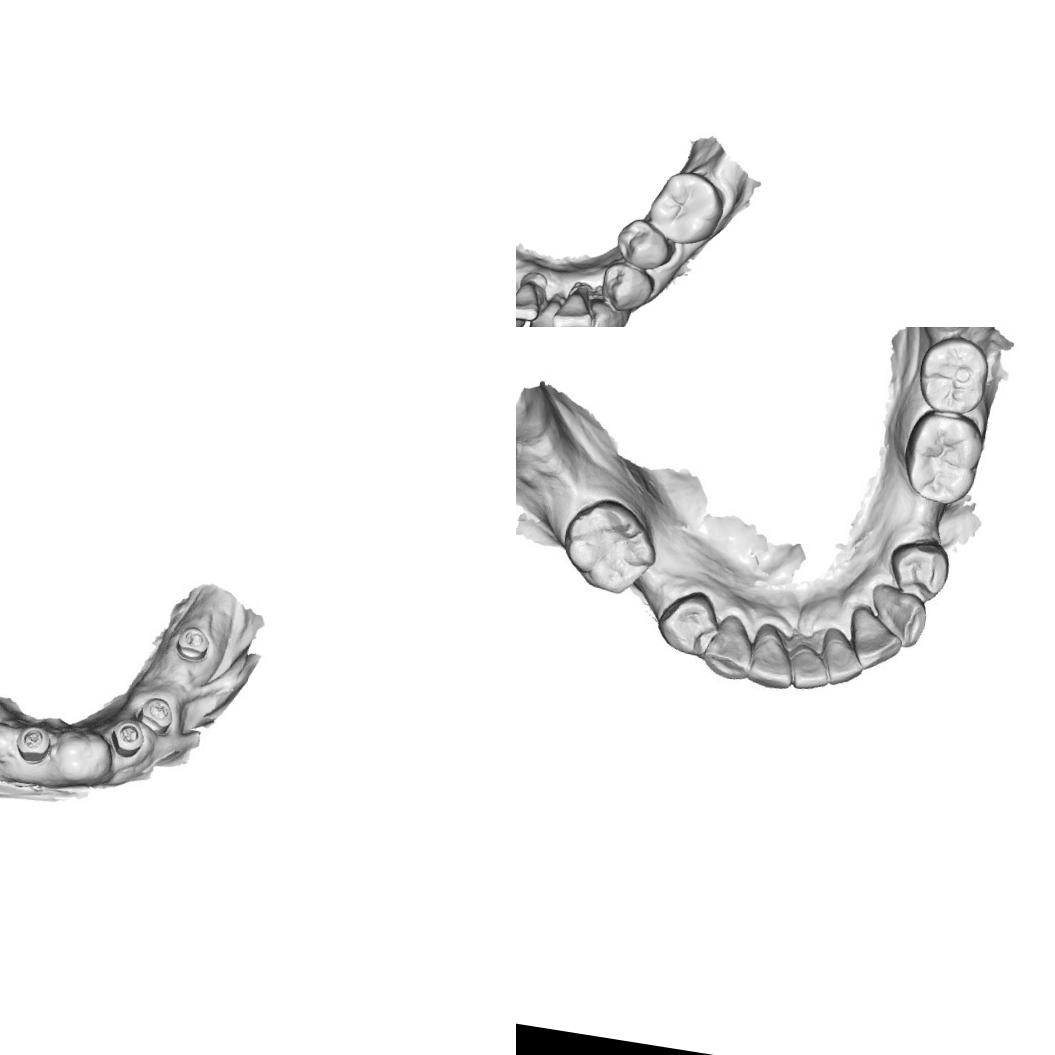canine: (864, 576, 928, 648), (699, 613, 753, 684), (580, 296, 633, 327)
implant: (14, 720, 54, 766), (136, 696, 175, 736), (110, 719, 146, 761), (174, 623, 211, 663)
incisor: (839, 608, 902, 673), (810, 624, 869, 690), (784, 634, 837, 700), (743, 632, 795, 696), (550, 287, 596, 327), (524, 293, 568, 327), (516, 276, 544, 324)
molar: (554, 490, 666, 604), (898, 405, 987, 508), (910, 331, 996, 424), (642, 164, 730, 250)
premolar: (651, 581, 724, 660), (612, 215, 678, 274), (888, 537, 948, 599), (598, 260, 657, 316)
